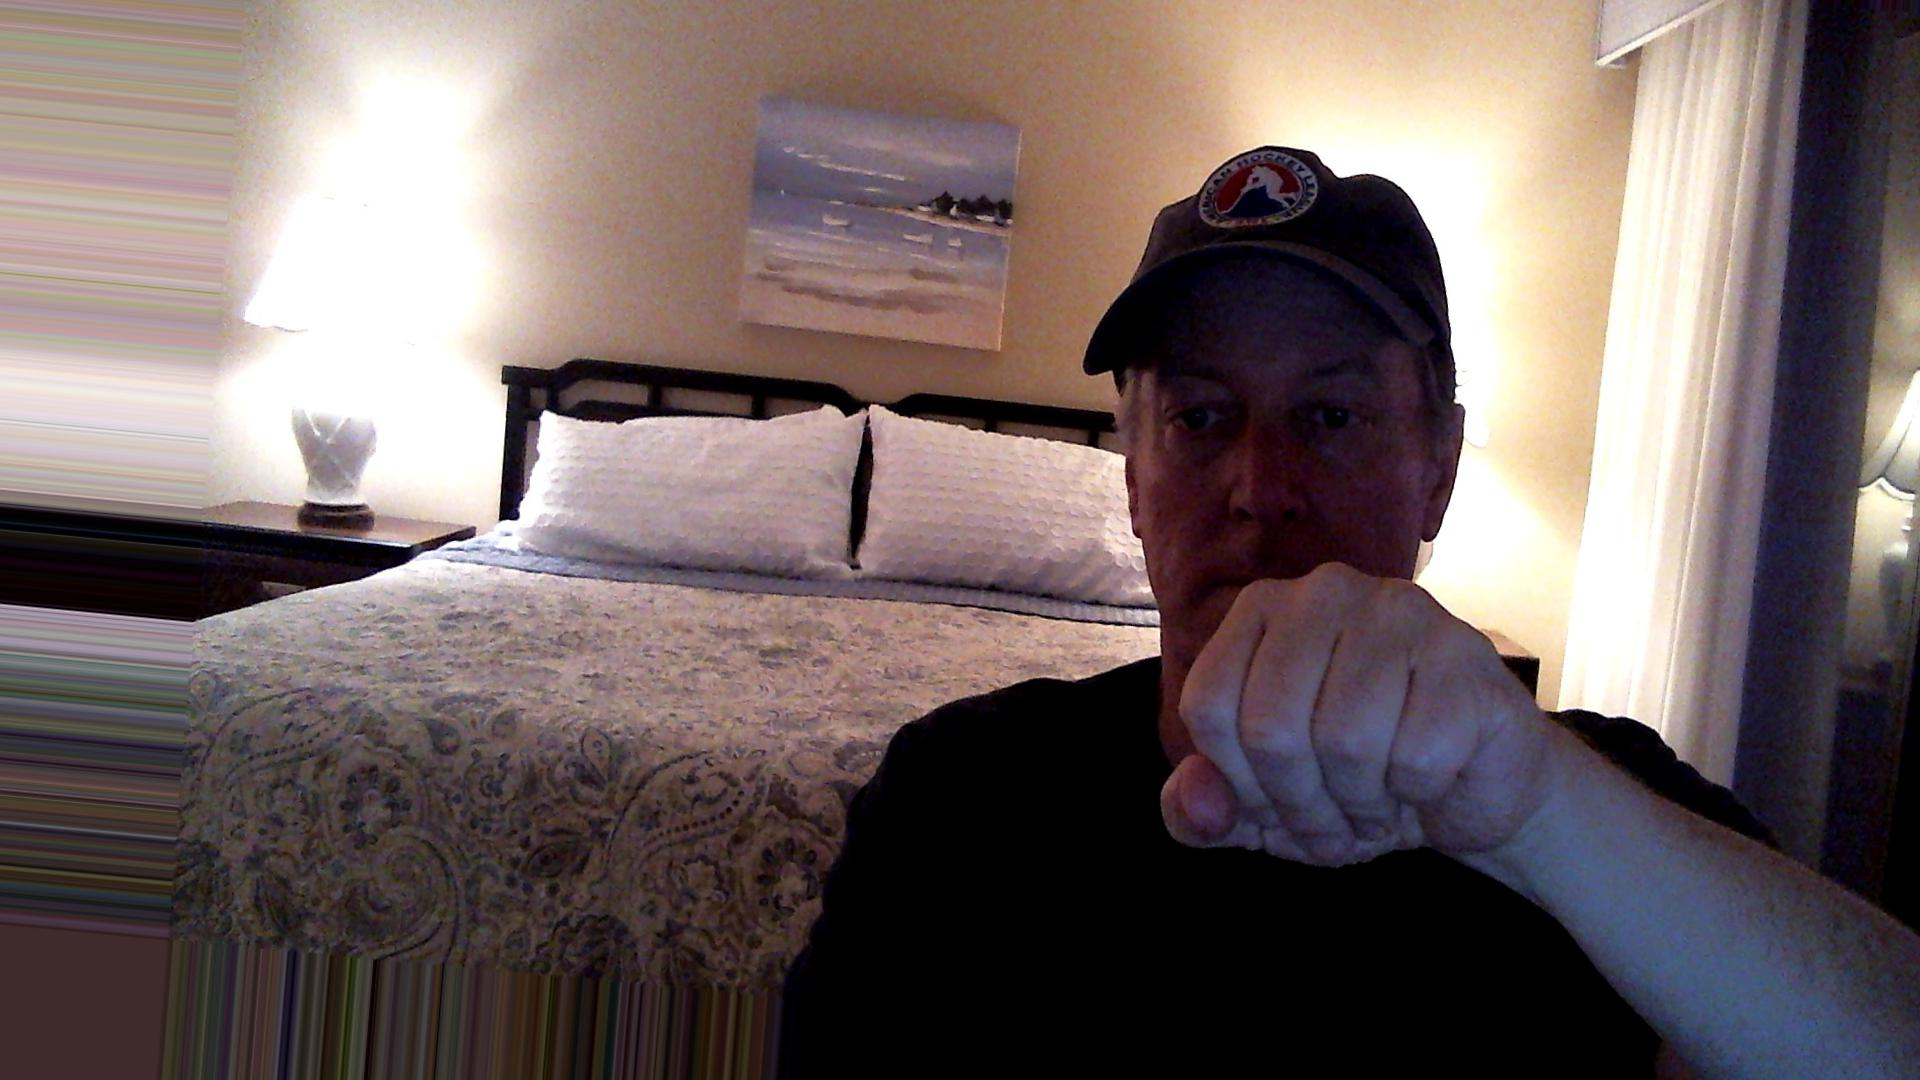Yes: (1149, 553, 1563, 898)
